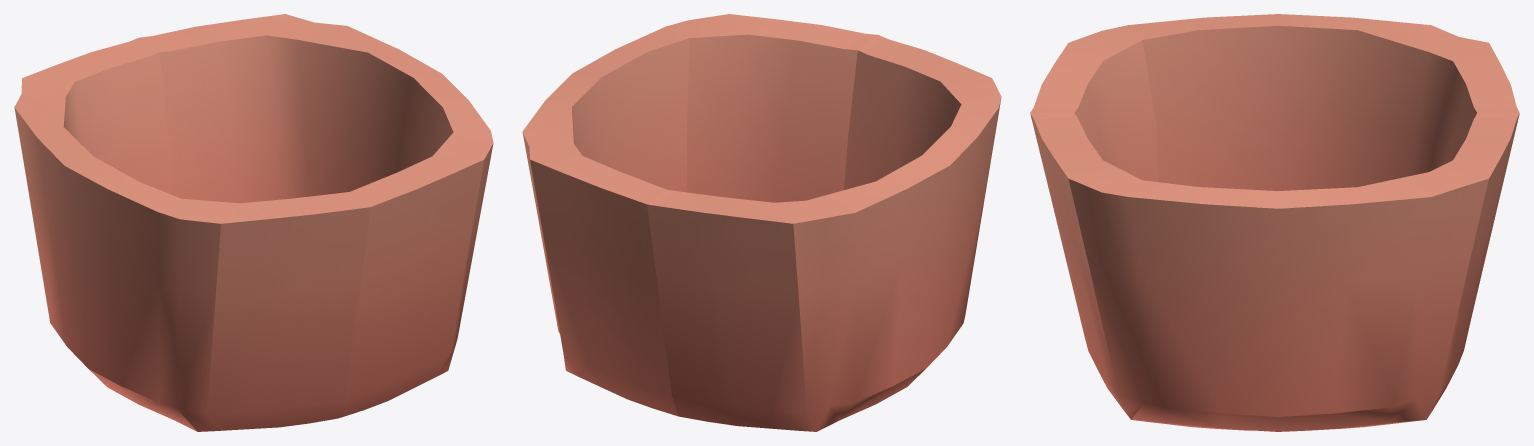
Rendered from bowl.fbx.
3 renders of one model, left to right at view 1: azimuth 30°, elevation 25°; view 2: azimuth 150°, elevation 25°; view 3: azimuth 270°, elevation 25°, orthographic. The views are drawn at different scales.
Parts seen in each view (by area): view 1: bowl; view 2: bowl; view 3: bowl.
Part boxes in pixels (x1,y1,x2,y2): bowl: [14, 14, 493, 431]; bowl: [522, 14, 1001, 431]; bowl: [1030, 14, 1519, 431].
Bounding box in the file's own units: 82.91 × 54.53 × 88.09.
